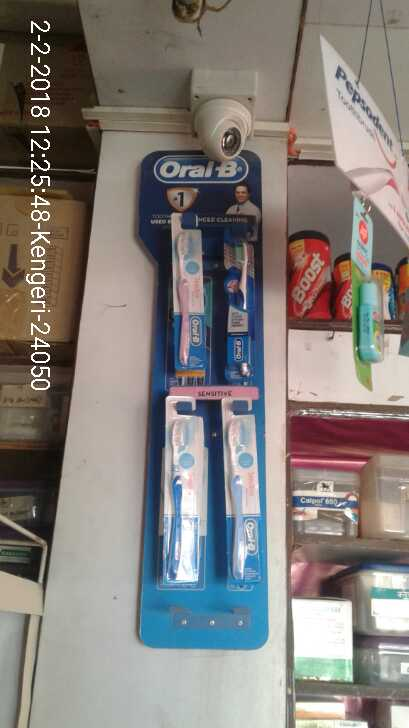oralb: (165, 225, 203, 376), (164, 411, 196, 586), (220, 237, 254, 373), (227, 409, 251, 588)
